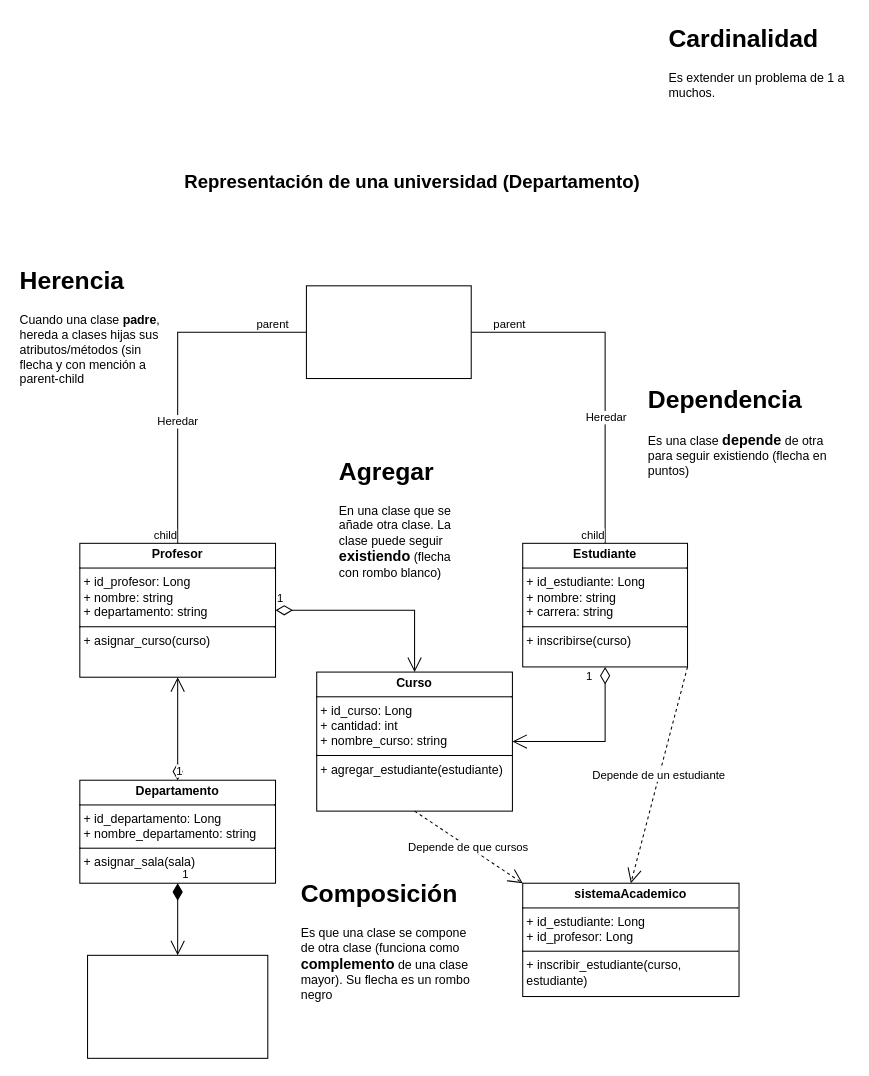
This 869x1076 diagram has some shape labels left out. Each missing label, with the box of its shape:
Aulas/Salas + id_sala: Long + nombre_sala: string: (87, 954, 268, 1058)
Persona + id_persona: Long + nombre: string + method():: (305, 285, 471, 379)
